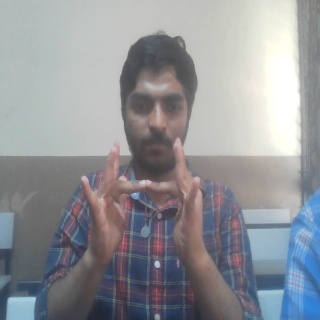Internet: (78, 134, 213, 264)
